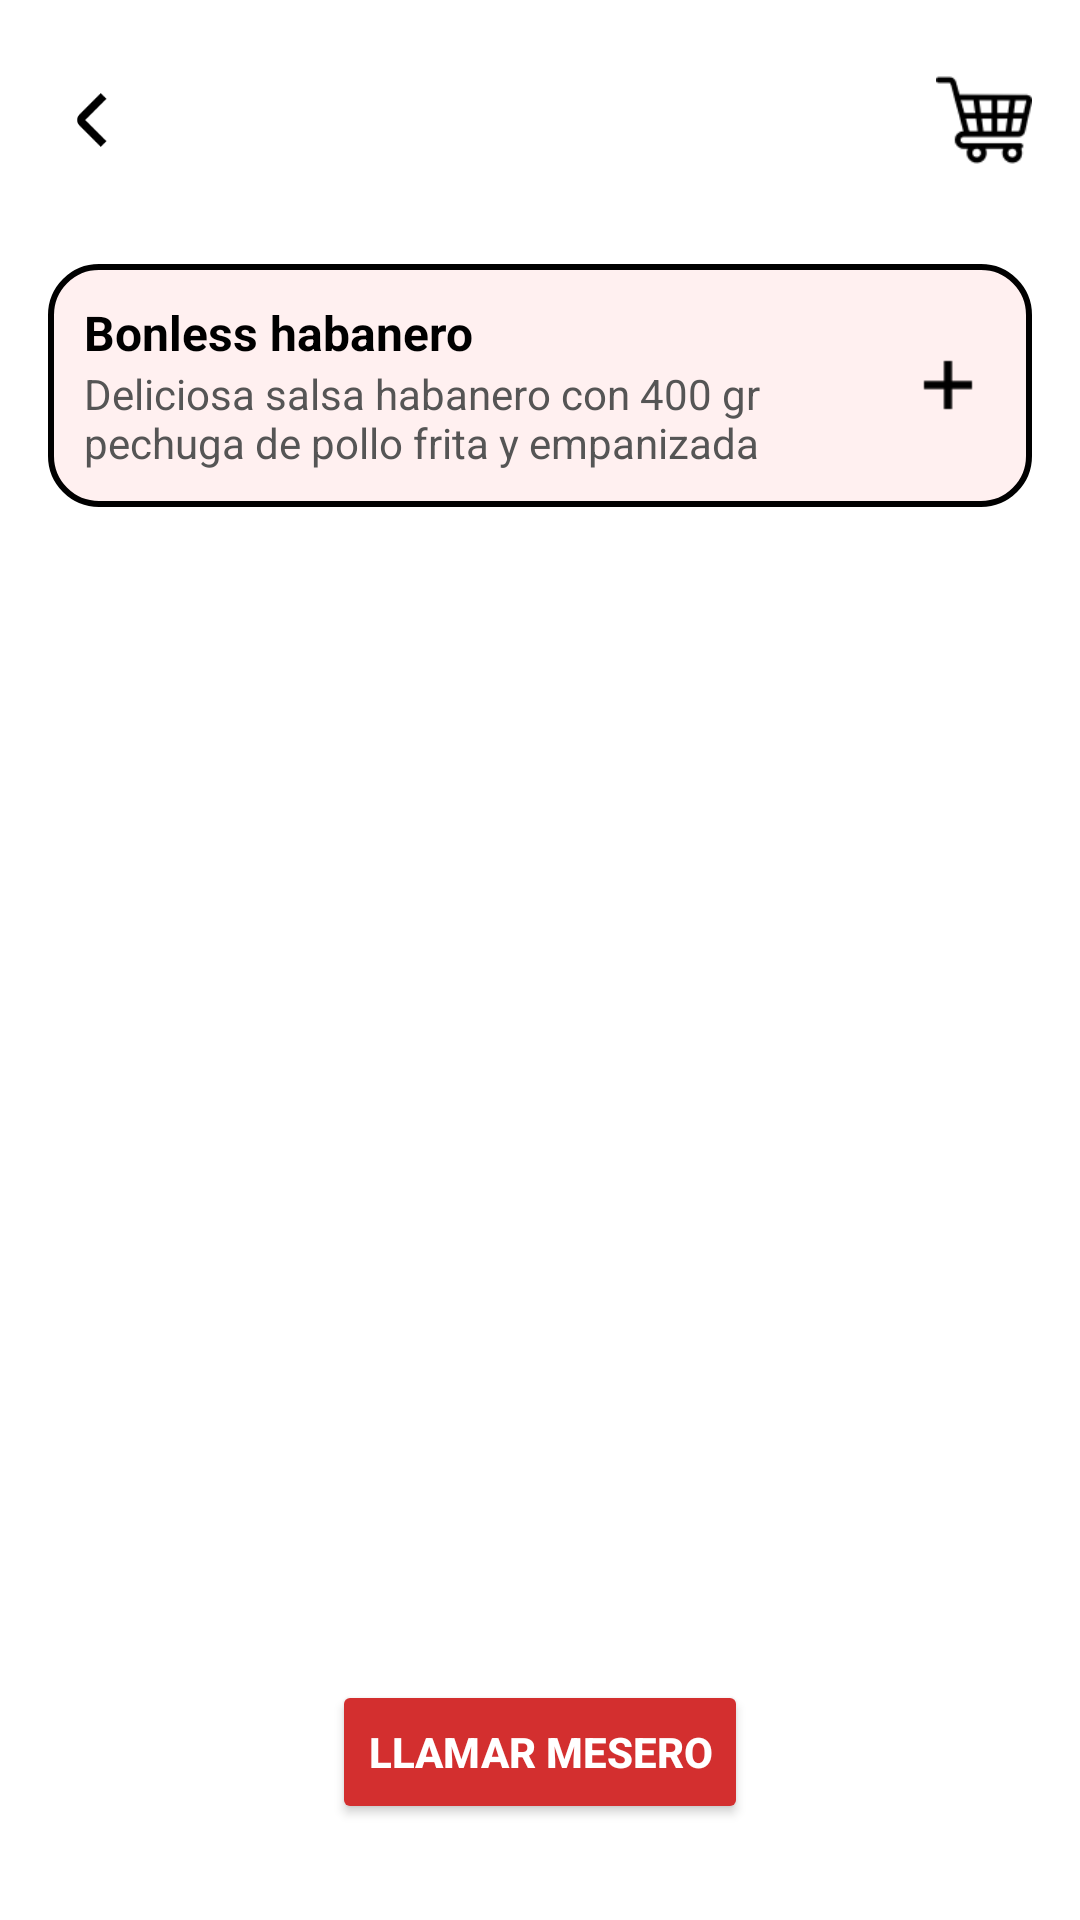

Named icons in this screenshot (1080w x 1920h) and their bounding boxes, (x1, y1, x2, y2):
Agregar: (923, 360, 973, 410)
Carrito: (936, 76, 1032, 164)
Volver: (77, 93, 107, 147)
